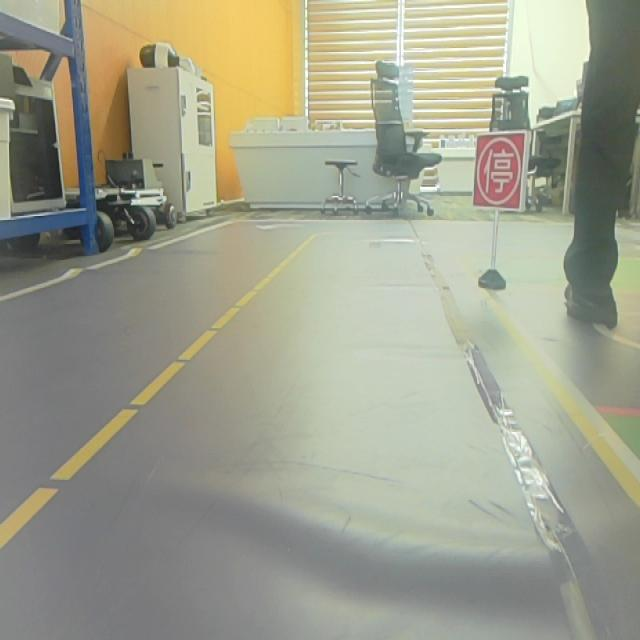left_lane: (1, 231, 322, 553)
right_lane: (467, 267, 640, 503)
